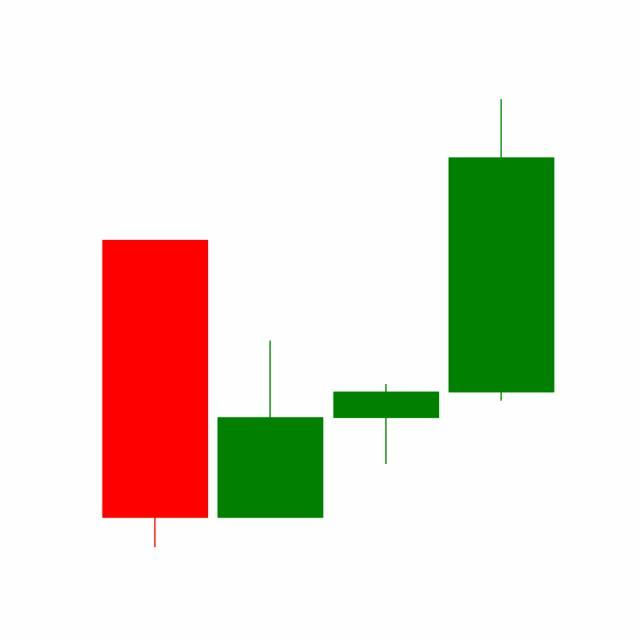Hanging Man: (329, 383, 445, 467)
